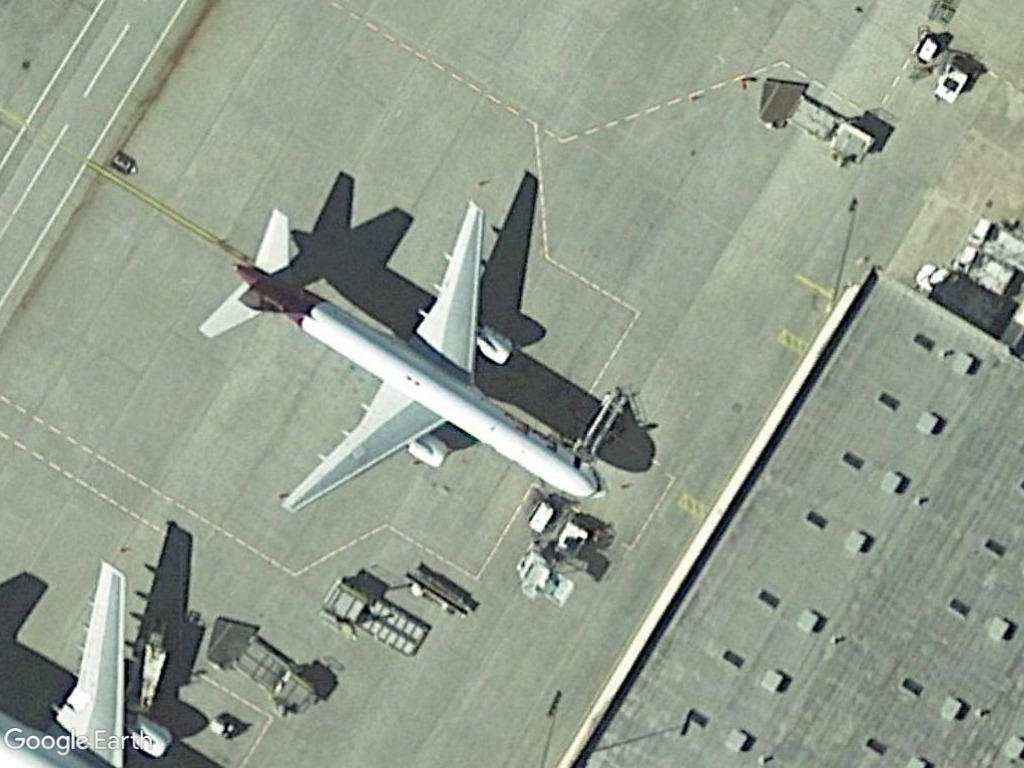airliner: (191, 194, 610, 517)
